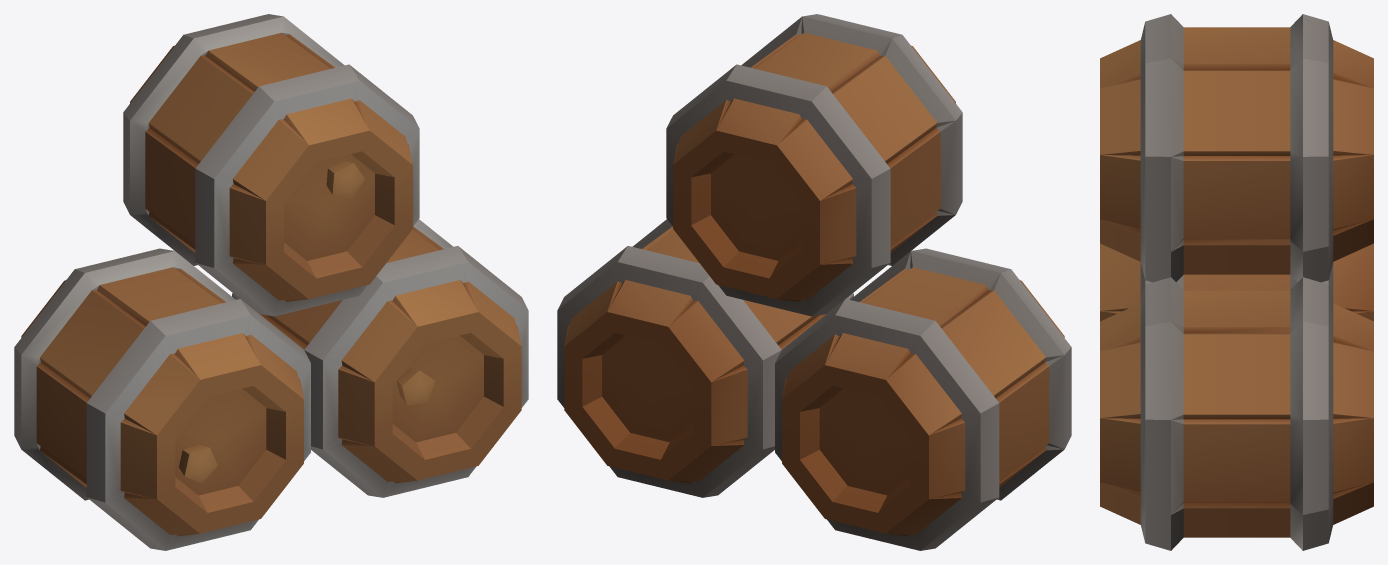
File: kaykit_dungeon_barrel_small_stack.glb
The picture shows the model from 3 angles, left to right: view 1: azimuth 30°, elevation 25°; view 2: azimuth 150°, elevation 25°; view 3: azimuth 270°, elevation 25°; orthographic projection.
Visible parts, largest first — view 1: barrel_small_stack; view 2: barrel_small_stack; view 3: barrel_small_stack.
Boxes of the visible parts, x1,y1,x2,y2 form: barrel_small_stack: (14,14,528,550); barrel_small_stack: (557,14,1071,550); barrel_small_stack: (1100,14,1373,550).
Bounding box in the file's own units: 1.85 × 1.77 × 1.
1 material, 1 textured.
